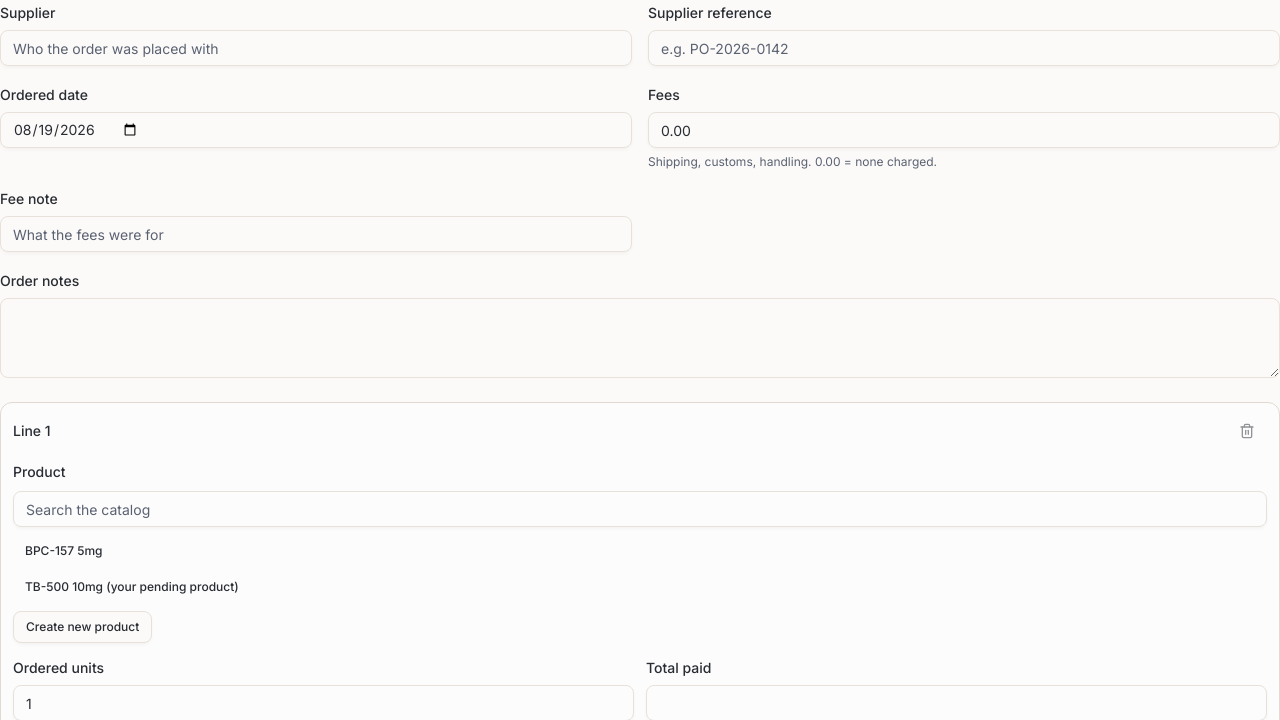
Test case: lines › refuses to submit a line with no product chosen
Clear the field with test id "ordered-units-0" at (324, 703), box [13,685,634,719]
(page scrolled)
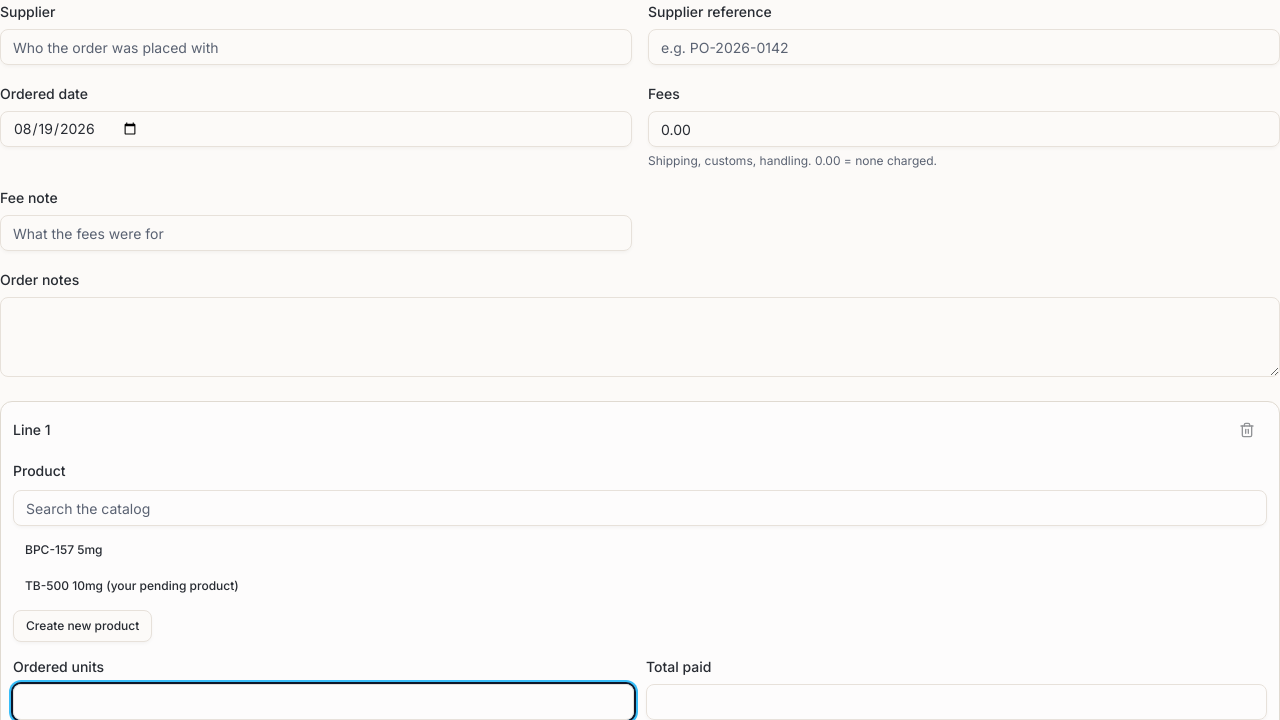
Type "3" into the field with test id "ordered-units-0".
click(324, 702); type("3")  # box [13,684,634,719]
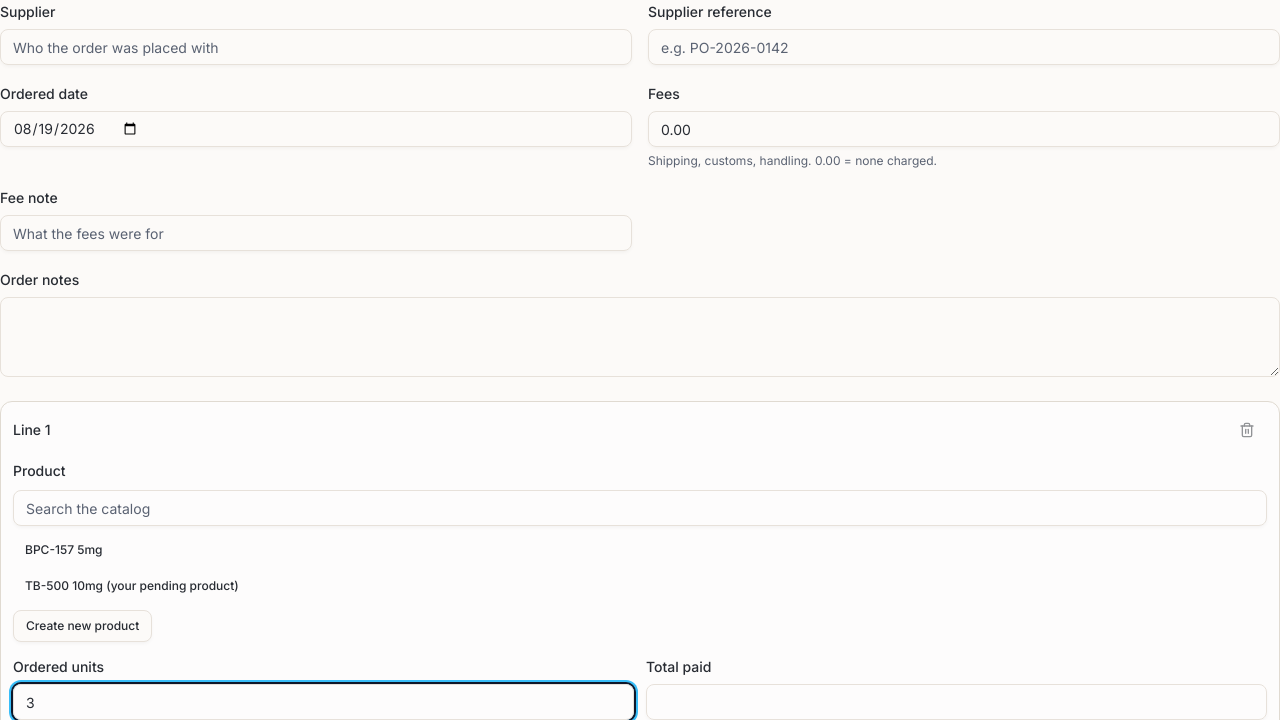
Type "10.00" into the field with test id "total-paid-0".
click(956, 702); type("10.00")  # box [646,684,1267,719]
(page scrolled)
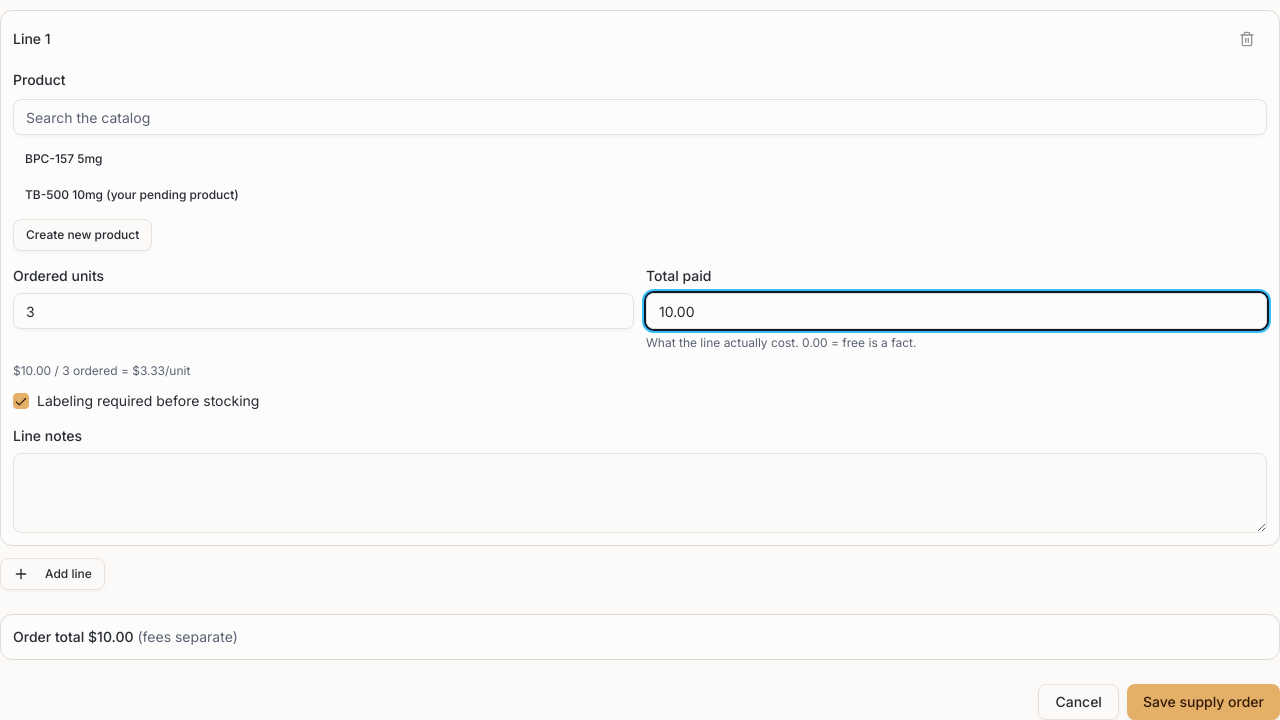
Click the button "Save supply order".
click(1203, 702)  # box [1127,684,1279,719]
(page scrolled)
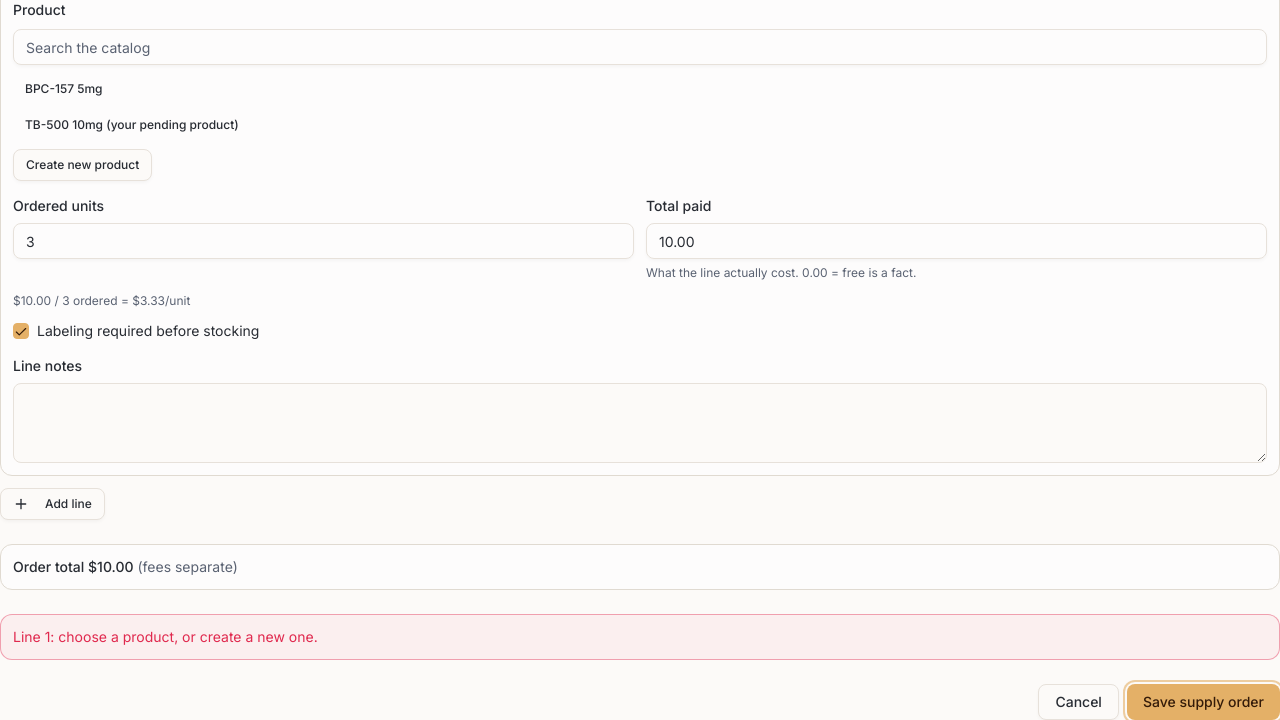
Result: the text with test id "supply-order-form-error" shows "product" at [13,628,318,645]
